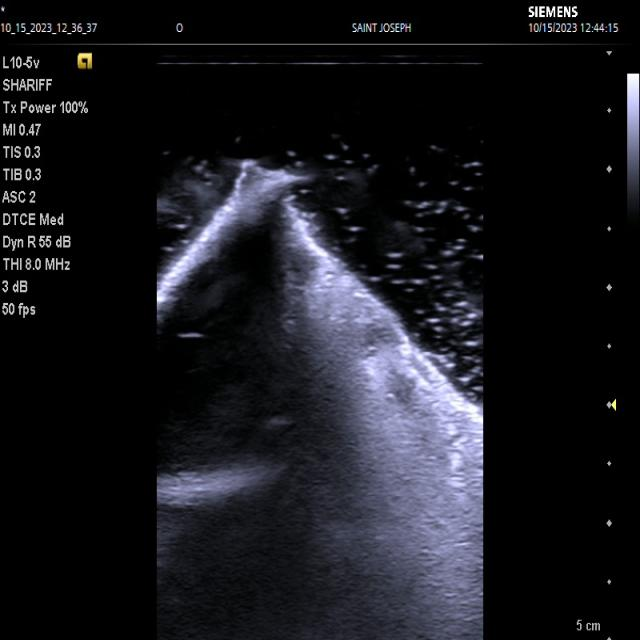tissue: (156, 162, 484, 640)
